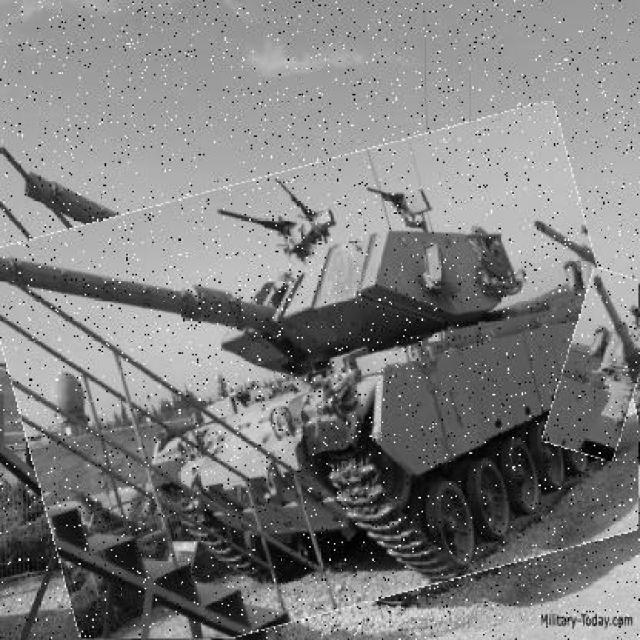Tank: (1, 134, 639, 639), (555, 272, 639, 461)
